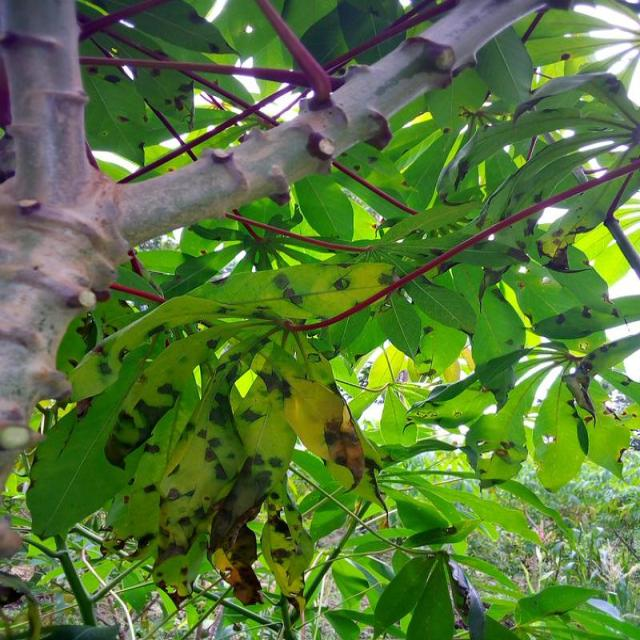cassava leaf: (16, 0, 637, 631)
